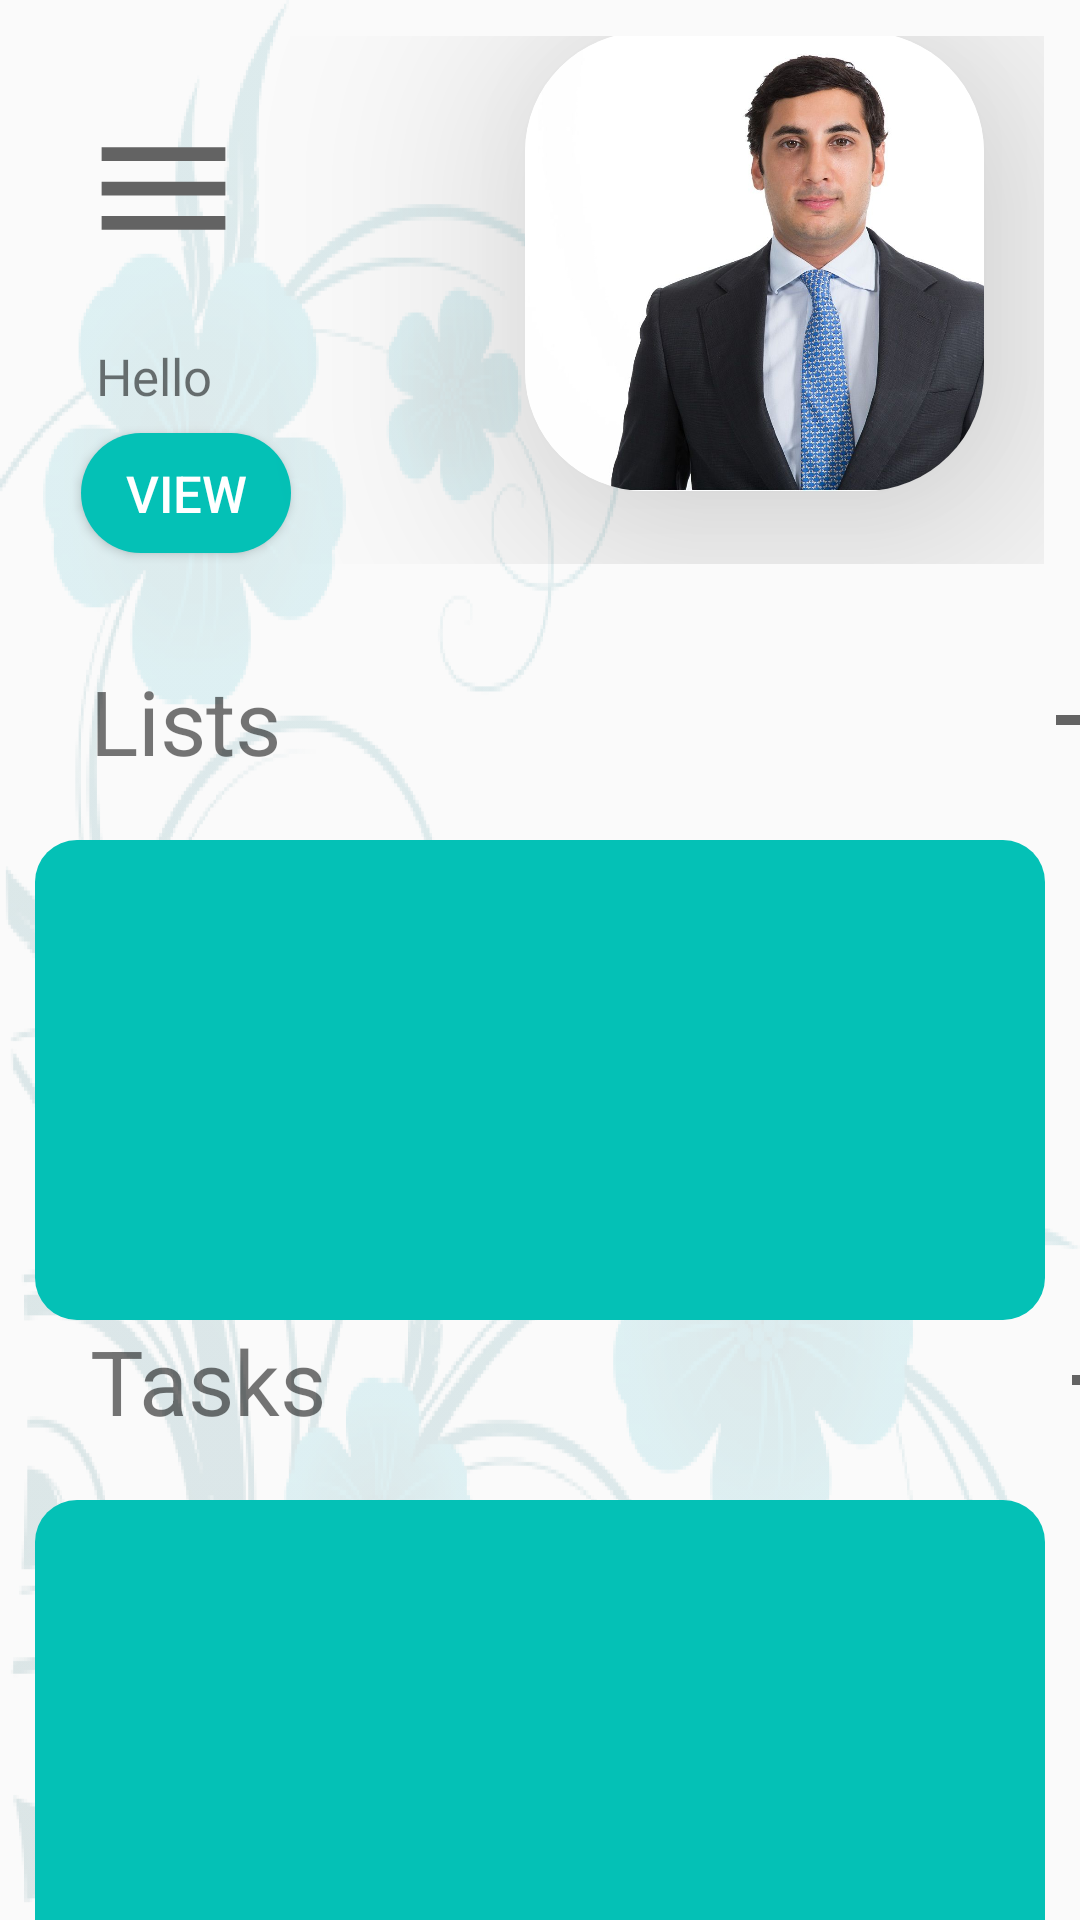

Point at icon controls on the screen. Image size 1080 × 1920, points as (x=x, y=y).
menu: (x=163, y=188)
